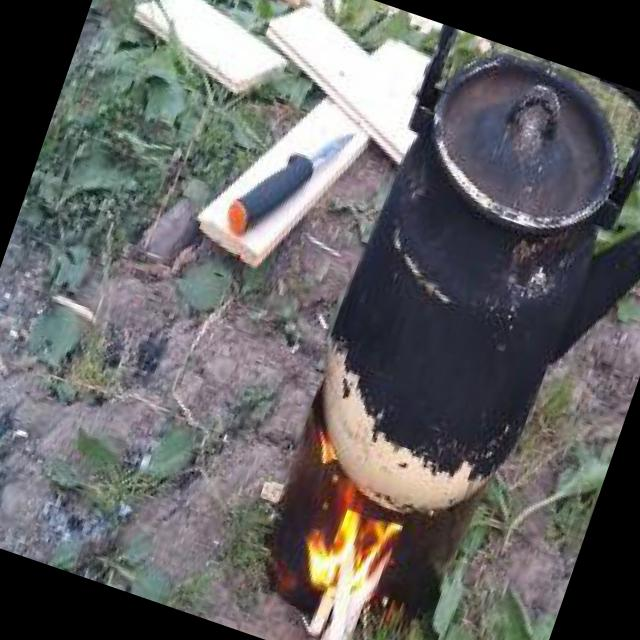fire: (273, 441, 432, 640)
